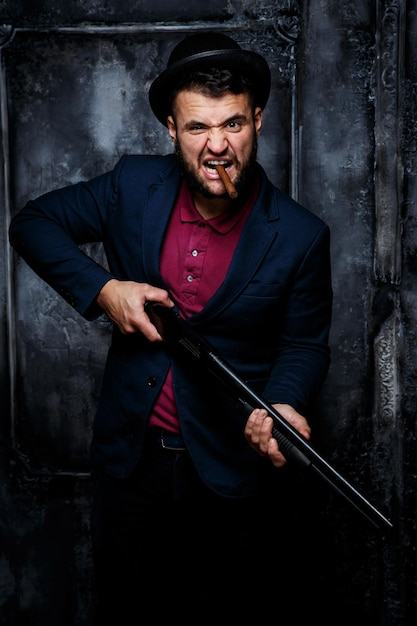cigarette: (210, 160, 238, 199)
gun: (141, 297, 398, 536)
